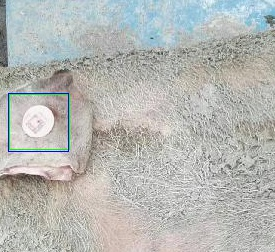text: (9, 94, 69, 149)
